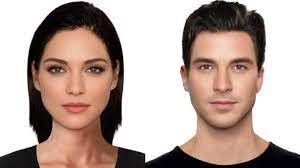face: (38, 55, 120, 133), (187, 52, 266, 132)
